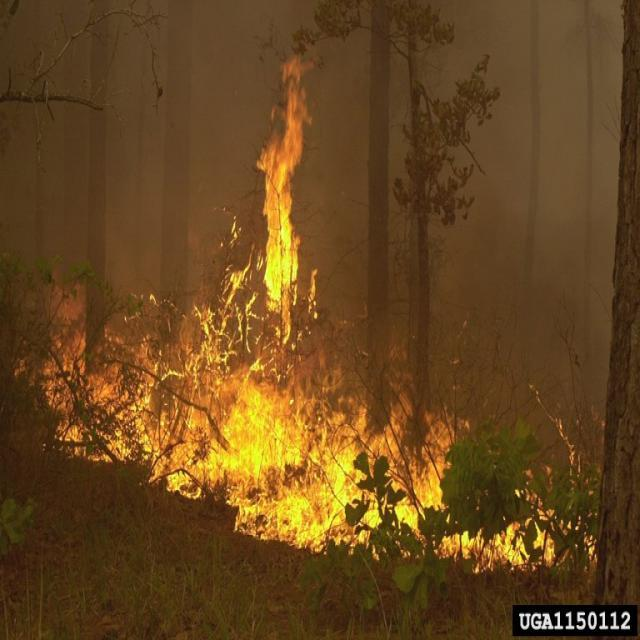Fire: (41, 52, 600, 574)
